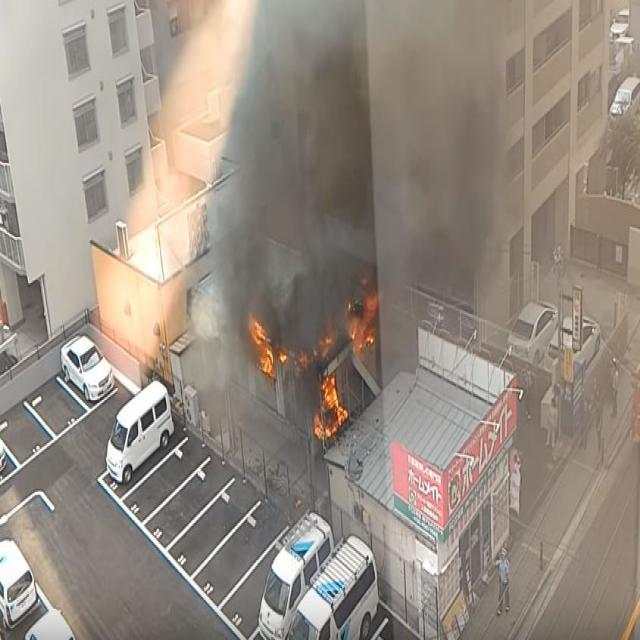Fire: (248, 314, 288, 379), (314, 372, 349, 442), (348, 277, 379, 352), (290, 330, 340, 370)
Smoke: (210, 0, 512, 276), (196, 314, 245, 467), (195, 279, 346, 310)
